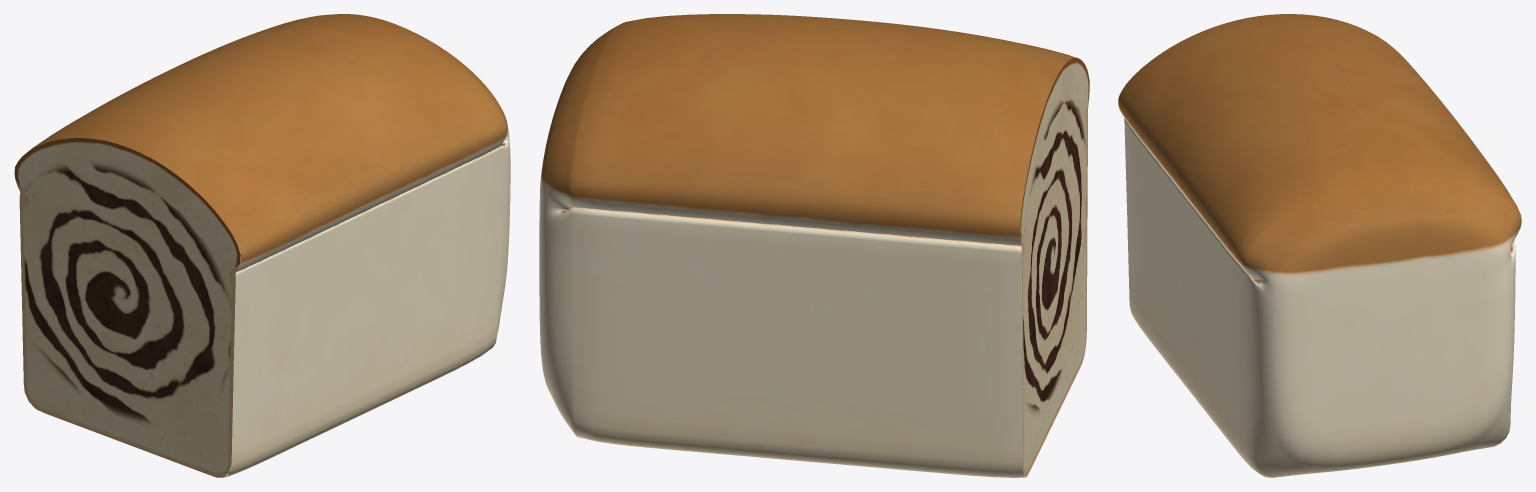
The model's file is loaf--choco-filling.glb.
3 views of the same model, side by side, from view 1: azimuth 30°, elevation 25°; view 2: azimuth 150°, elevation 25°; view 3: azimuth 270°, elevation 25° (orthographic). The views are drawn at different scales.
Parts seen in each view (by area): view 1: loaf_choco-filling; view 2: loaf_choco-filling; view 3: loaf_choco-filling.
Part boxes in pixels (box(x1,y1,x2,y2)): loaf_choco-filling: box(14, 14, 510, 477); loaf_choco-filling: box(539, 14, 1089, 477); loaf_choco-filling: box(1118, 14, 1521, 477).
Bounding box in the file's own units: 1.02 × 0.7199 × 0.8447.
1 material, 1 textured.
